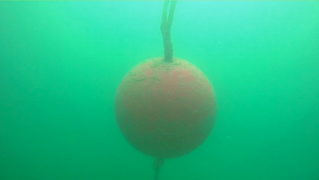bubble: (226, 135, 232, 140)
buoy: (113, 57, 218, 160)
